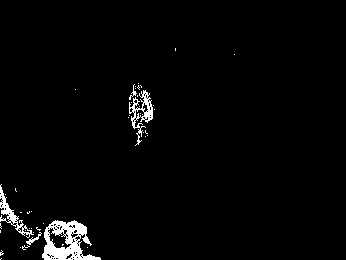person: (46, 222, 99, 259), (127, 83, 152, 145)
